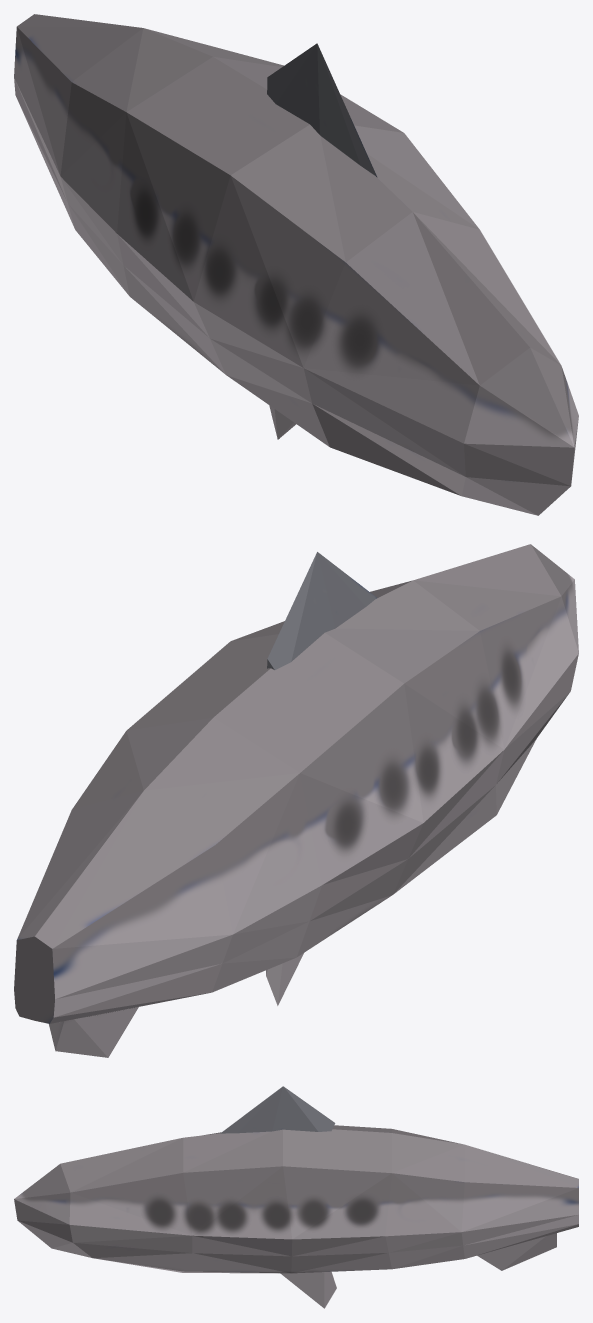
Rendered from float_Body.obj.
3 views of the same model, one above another, from view 1: azimuth 30°, elevation 25°; view 2: azimuth 150°, elevation 25°; view 3: azimuth 270°, elevation 25° (orthographic). The views are drawn at different scales.
Parts seen in each view (by area): view 1: 立方体; view 2: 立方体; view 3: 立方体.
Boxes of the visible parts, x1,y1,x2,y2 form: 立方体: (14, 14, 578, 515); 立方体: (14, 544, 578, 1057); 立方体: (14, 1086, 578, 1308).
Size of the model in its own units: 2.15 by 3.8 by 8.74.
1 material, 1 textured.
